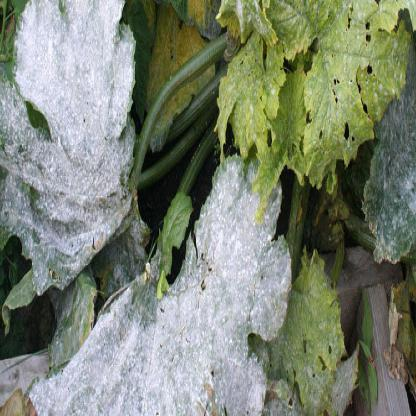Squash Powdery mildew leaf: (32, 146, 292, 415), (0, 1, 132, 276)
